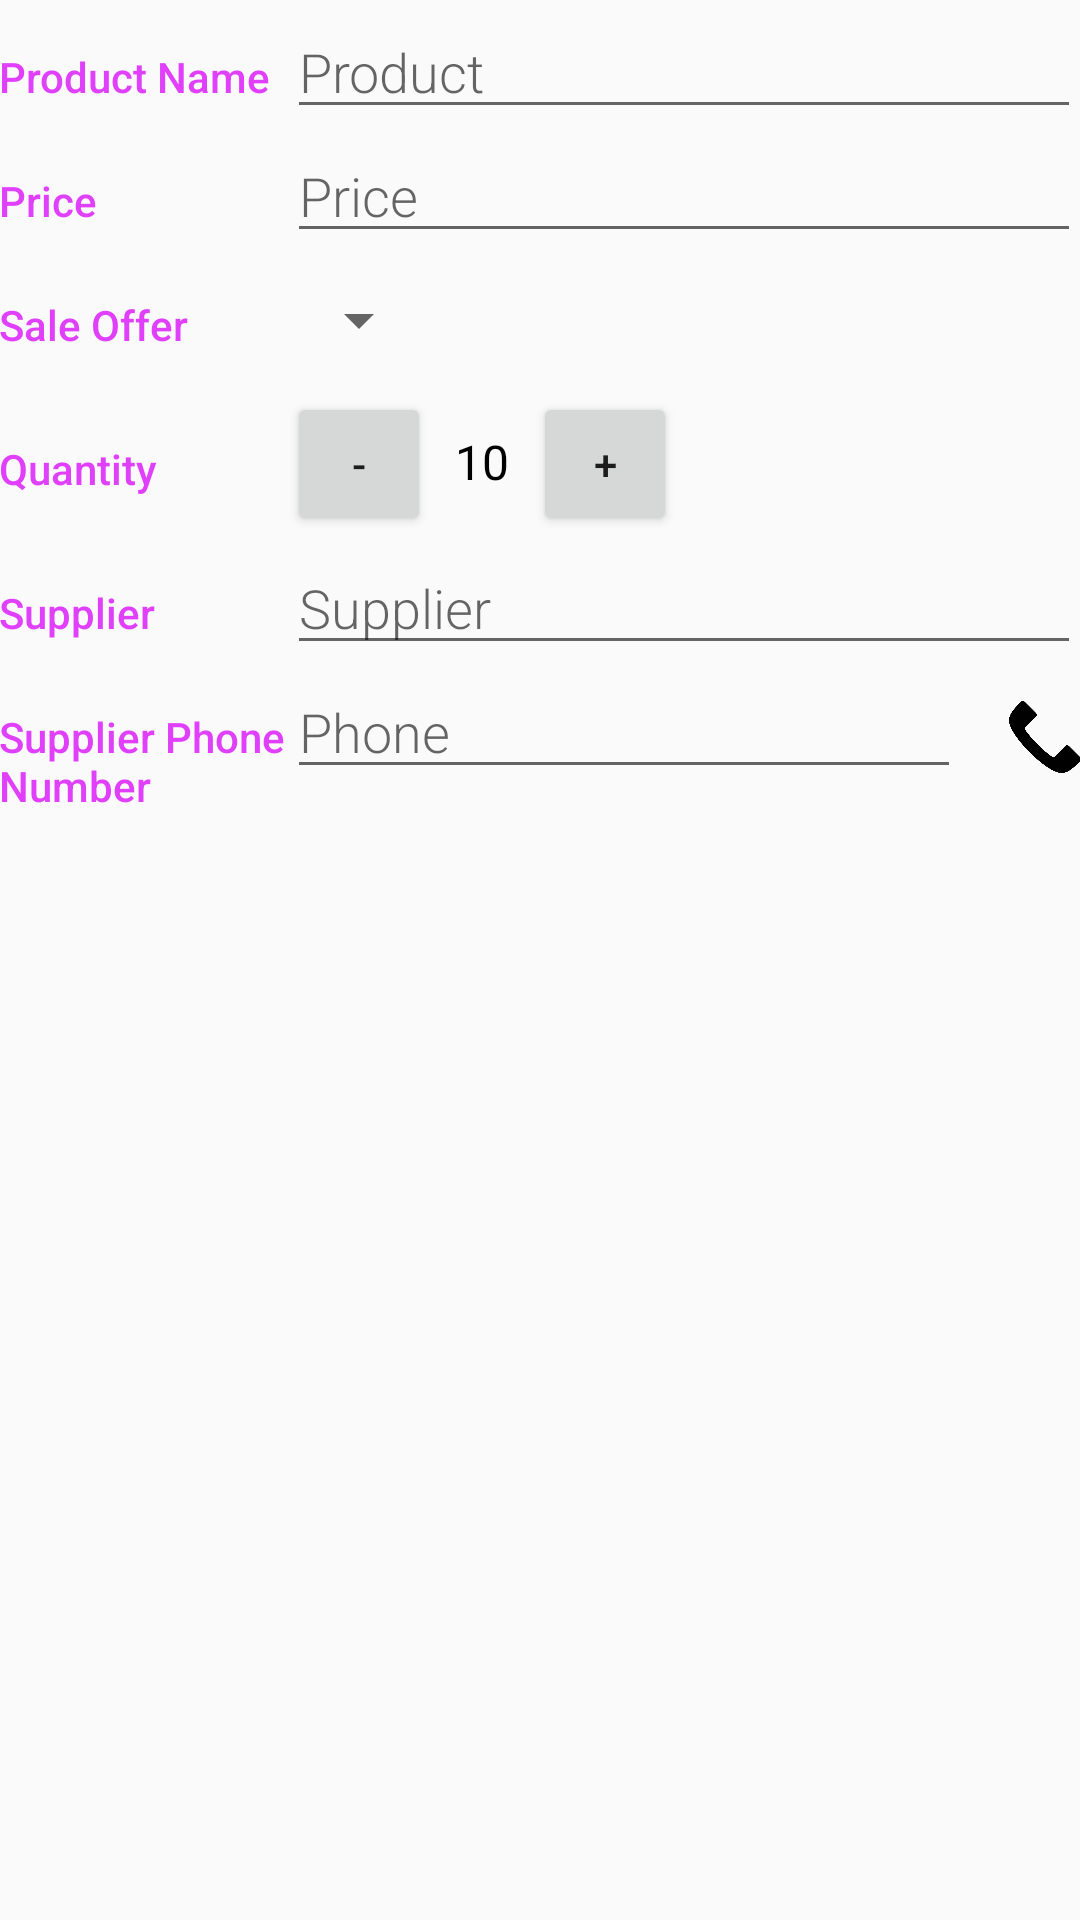

Icons on this 1080x1920 Android screen, each with the point to tap as (x=x, y=y):
call: (x=1044, y=737)
